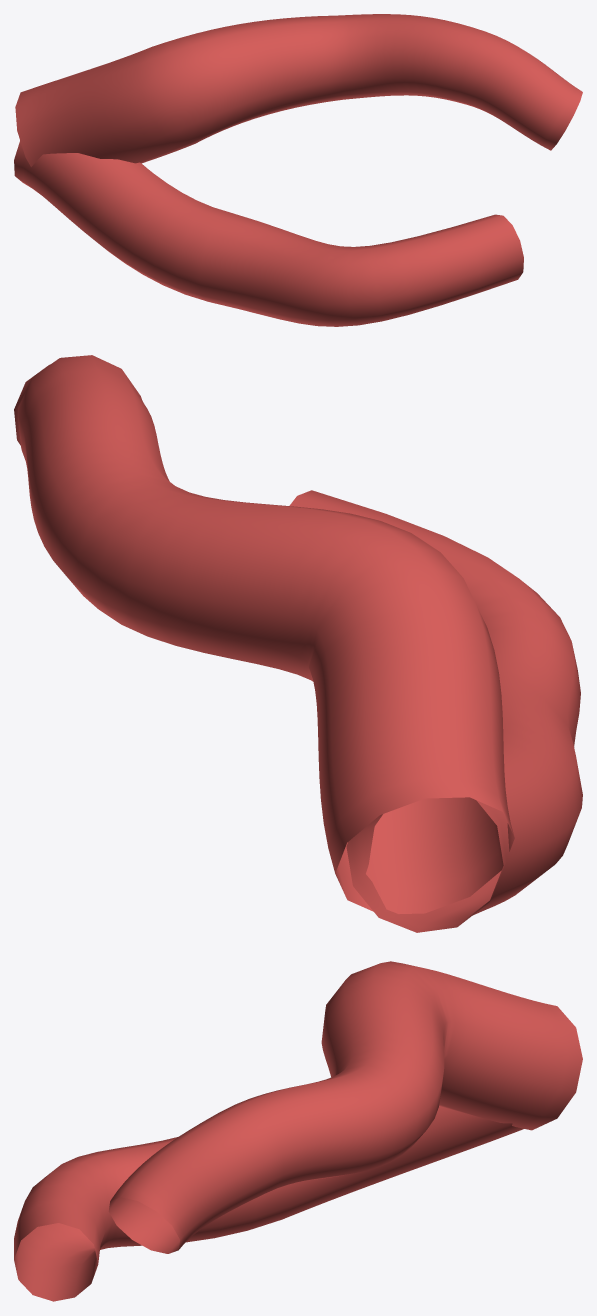
3 renders of one model, top to bottom at view 1: azimuth 30°, elevation 25°; view 2: azimuth 150°, elevation 25°; view 3: azimuth 270°, elevation 25°, orthographic. The views are drawn at different scales.
Visible parts, largest first — view 1: 左侧大脑中动脉M2段岛叶支; view 2: 左侧大脑中动脉M2段岛叶支; view 3: 左侧大脑中动脉M2段岛叶支.
Part boxes in pixels (x1,y1,x2,y2): 左侧大脑中动脉M2段岛叶支: (14,14,582,326); 左侧大脑中动脉M2段岛叶支: (14,355,582,932); 左侧大脑中动脉M2段岛叶支: (14,961,582,1301).
Size of the model in its own units: 0.0187 by 0.00917 by 0.0179.
